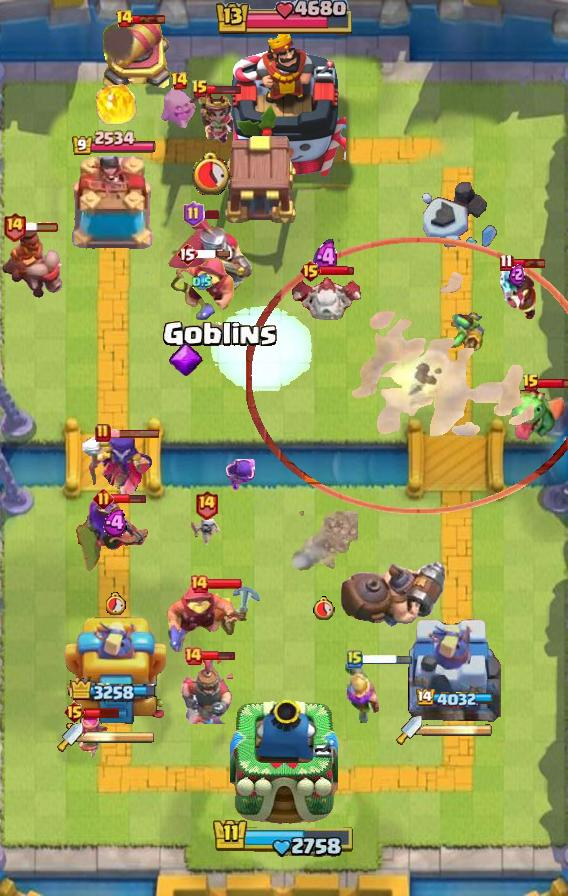axe: (70, 432, 154, 494)
bar: (62, 611, 166, 731), (405, 611, 501, 731)
barbarian-hut: (75, 494, 157, 576)
bat-evolution: (159, 84, 199, 128)
bomb: (219, 132, 299, 226)
bomb-tower: (343, 659, 383, 723)
bomber-evolution: (182, 87, 237, 149)
cannon: (73, 711, 109, 759)
clock: (212, 817, 356, 859), (213, 0, 355, 38)
earthquake: (179, 652, 235, 724)
electro-spirit: (313, 239, 340, 276), (102, 510, 129, 536), (509, 263, 525, 286), (192, 273, 212, 291)
electro-wizard: (502, 380, 568, 442)
elite-barbarian: (0, 223, 66, 299)
elixir: (188, 149, 231, 194), (313, 596, 336, 620), (106, 592, 126, 616)
emote: (360, 653, 414, 666), (109, 428, 161, 440), (83, 706, 120, 719), (24, 221, 60, 233), (511, 257, 547, 269), (319, 265, 355, 277), (207, 578, 243, 590), (206, 83, 241, 95), (111, 493, 147, 504), (200, 651, 236, 662), (538, 377, 568, 390), (130, 14, 165, 25), (195, 249, 231, 259), (201, 208, 221, 219)
fireball: (165, 582, 263, 654), (168, 256, 236, 322)
fisherman: (290, 511, 359, 574)
giant-snowball: (438, 310, 486, 352)
goblin: (225, 459, 255, 495)
heal-spirit: (190, 516, 222, 548)
king-tower: (222, 31, 346, 181), (230, 698, 338, 826)
king-tower-bar: (83, 730, 155, 744), (422, 723, 492, 737)
lumberjack: (494, 262, 540, 322)
mega-knight: (209, 303, 315, 397)
mini-pekka: (288, 275, 364, 325)
queen-tower: (68, 156, 160, 256)
royal-ghost: (246, 238, 568, 515)
royal-recruit: (100, 20, 172, 94)
selected: (69, 678, 158, 705), (71, 130, 157, 157), (414, 689, 494, 709)
skeleton-king-skill: (169, 342, 204, 378)
text: (2, 210, 27, 241), (193, 489, 218, 519), (299, 259, 322, 283), (63, 700, 86, 724), (183, 201, 204, 227), (176, 242, 198, 266), (94, 488, 115, 509), (114, 9, 134, 29), (189, 574, 209, 594), (183, 646, 203, 666), (170, 71, 189, 91), (191, 79, 209, 99), (522, 373, 540, 393), (95, 423, 111, 443), (347, 649, 363, 669), (499, 253, 513, 272)
valkyrie: (91, 72, 143, 128)
wall-breaker-evolution: (166, 212, 252, 296)
wizard: (337, 559, 449, 629)
